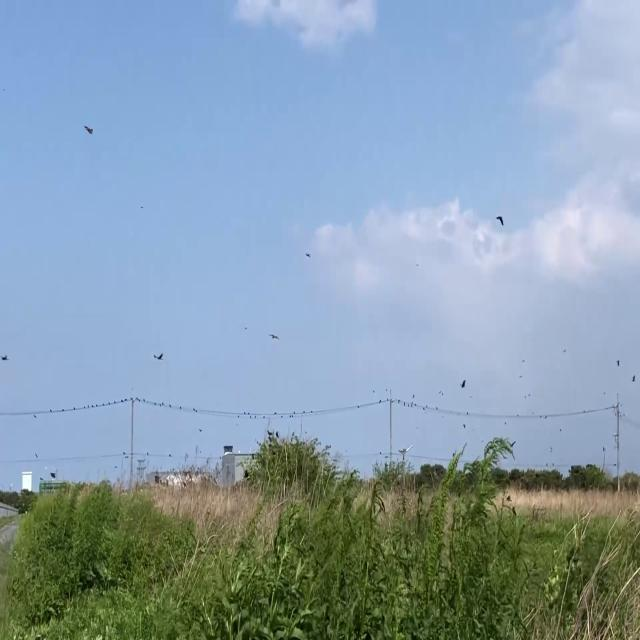bird: (84, 119, 93, 140), (496, 209, 504, 232), (269, 326, 279, 344), (155, 346, 164, 364), (461, 374, 466, 390), (632, 369, 636, 384), (616, 354, 620, 367)
